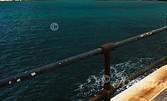Corrosion: (122, 66, 167, 101)
